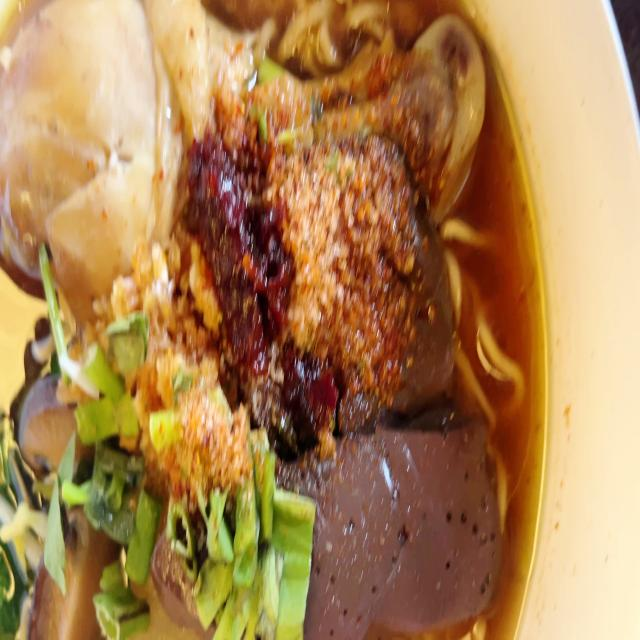boiled_chicken_blood_jelly: (300, 436, 501, 632), (397, 234, 454, 410)
chicken_drumstick: (0, 0, 500, 273)
daikon_radish: (46, 514, 110, 640)
noodle: (0, 0, 493, 640)
